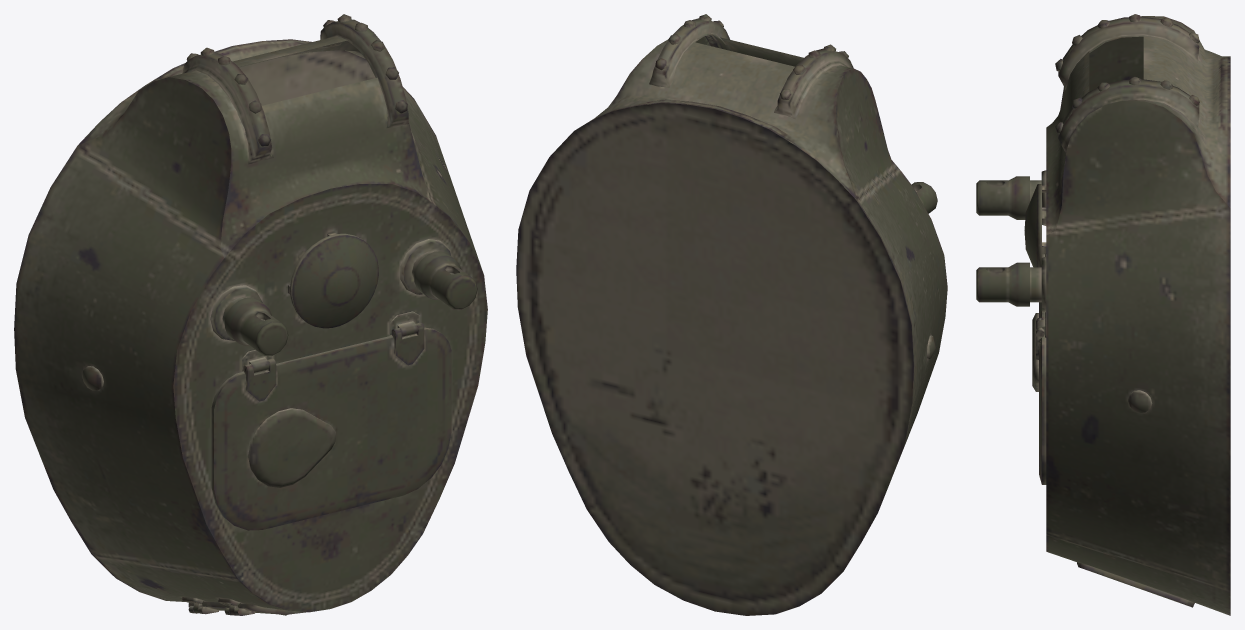
File: Turret_01.glb
The picture shows the model from 3 angles, left to right: view 1: azimuth 30°, elevation 25°; view 2: azimuth 150°, elevation 25°; view 3: azimuth 270°, elevation 25°; orthographic projection. The views are drawn at different scales.
Parts seen in each view (by area): view 1: set_0_group_0; view 2: set_0_group_0; view 3: set_0_group_0.
Part boxes in pixels (<box>): set_0_group_0: <box>14,14,487,615</box>; set_0_group_0: <box>516,14,947,615</box>; set_0_group_0: <box>976,14,1230,615</box>.
Size of the model in its own units: 1.46 by 1.9 by 0.7861.
1 material, 1 textured.
